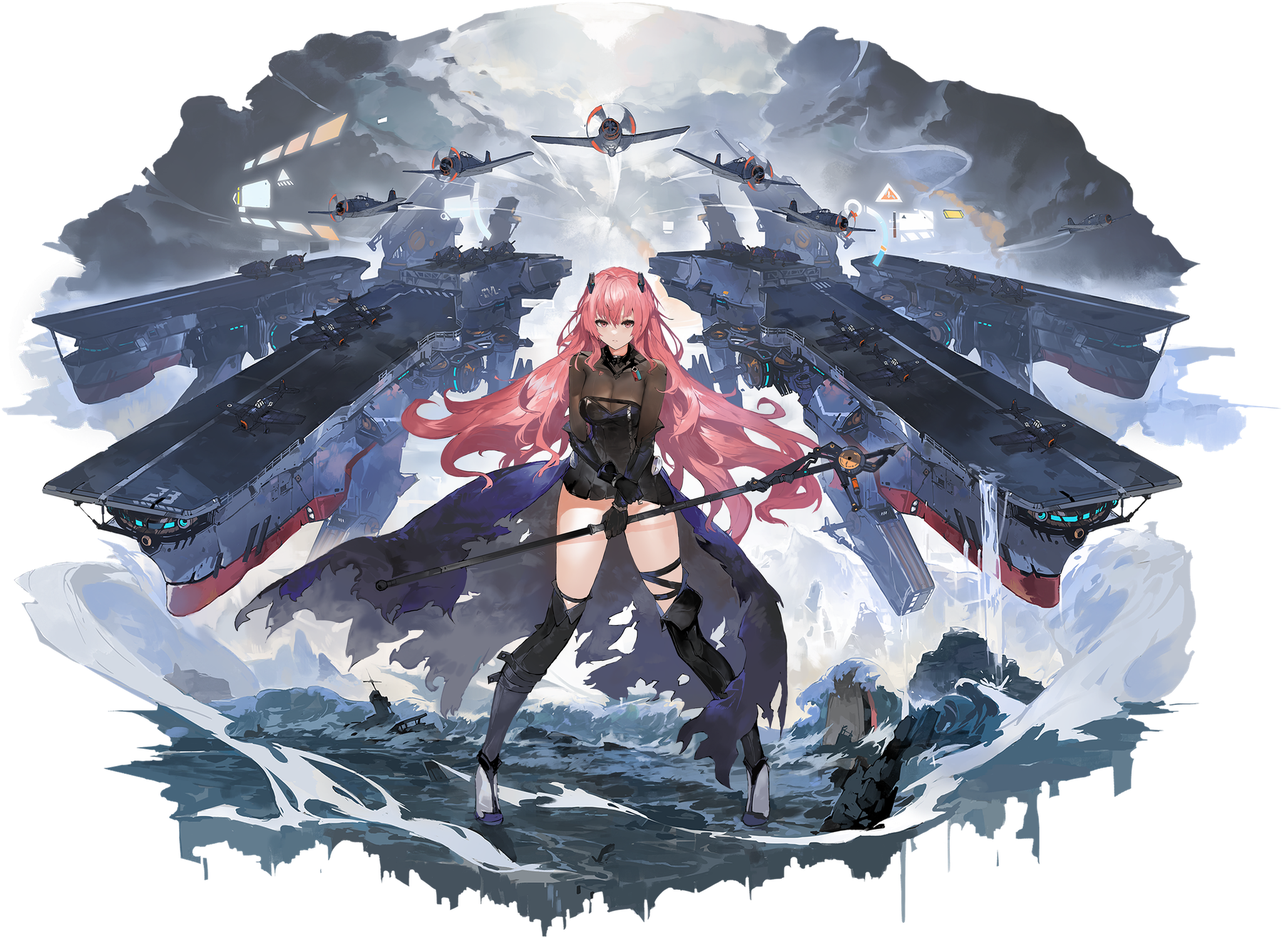person: (428, 226, 813, 843)
